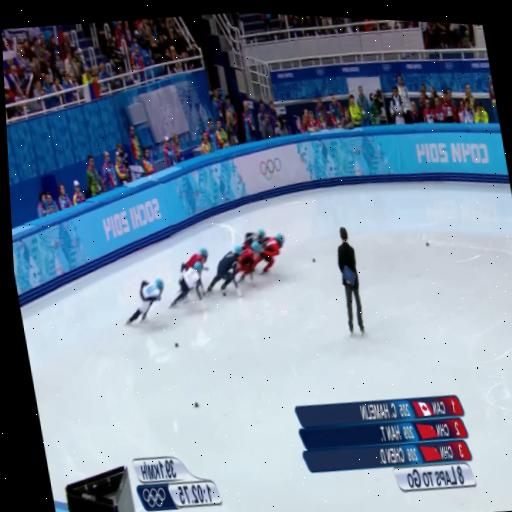Skater: (206, 246, 241, 296), (125, 279, 163, 325), (169, 262, 203, 307), (251, 233, 283, 273), (181, 248, 207, 293), (235, 245, 255, 285), (182, 248, 207, 271), (242, 229, 265, 247)
